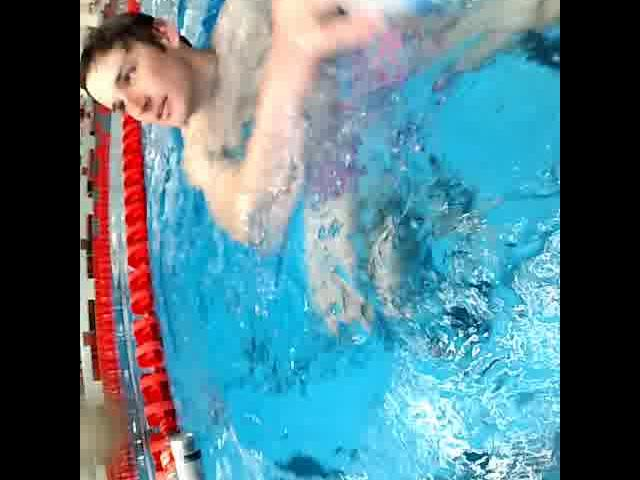Can: (165, 426, 211, 480)
